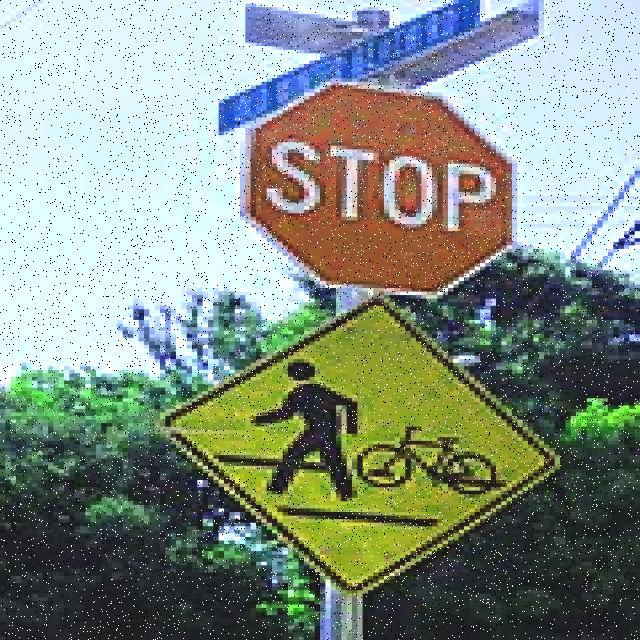Traffic sign: (147, 0, 565, 600)
